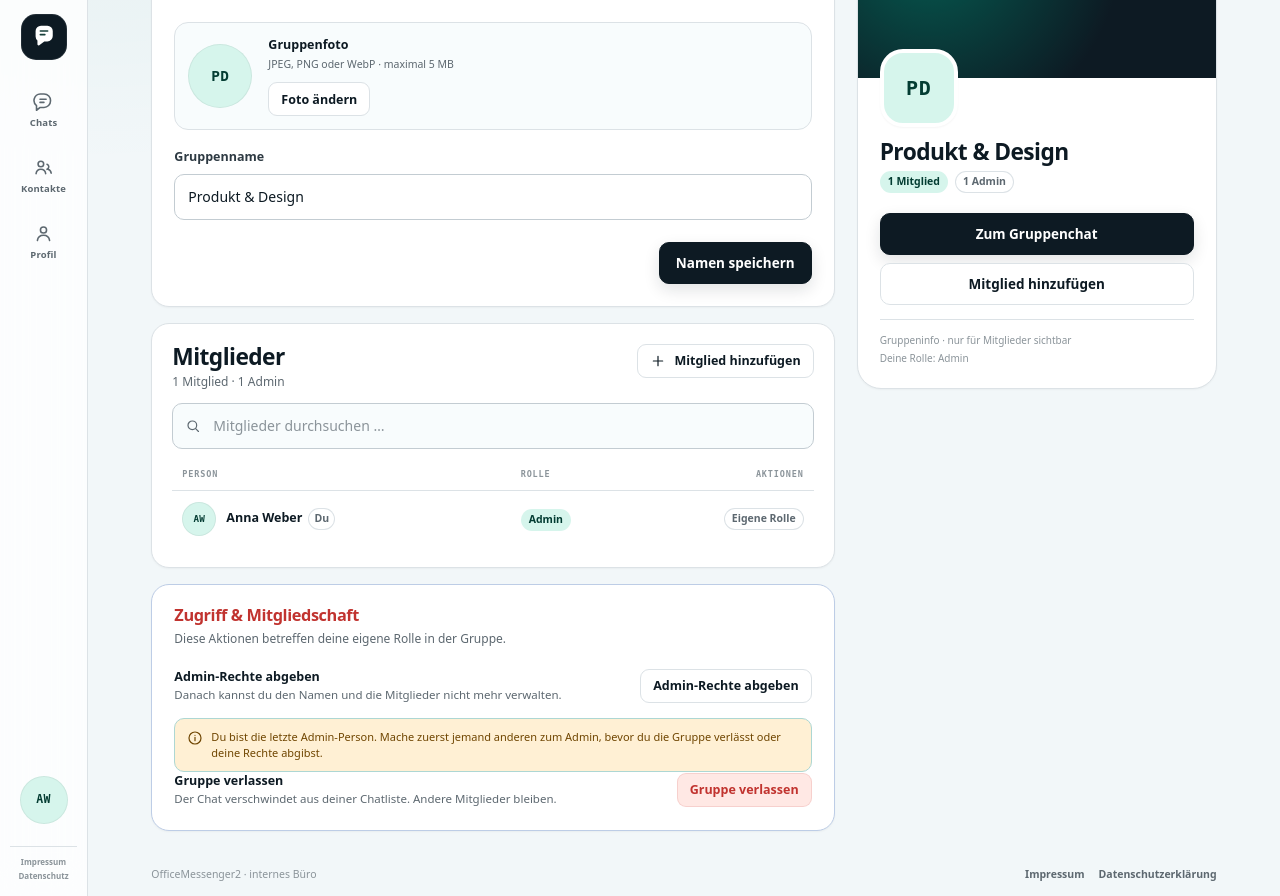
GroupSettingsPage as admin › keeps the last admin in place and shows the server message
(page scrolled)
Click the button "Admin-Rechte abgeben".
click(726, 686)  # box left=640, top=669, right=812, bottom=703
(page scrolled)
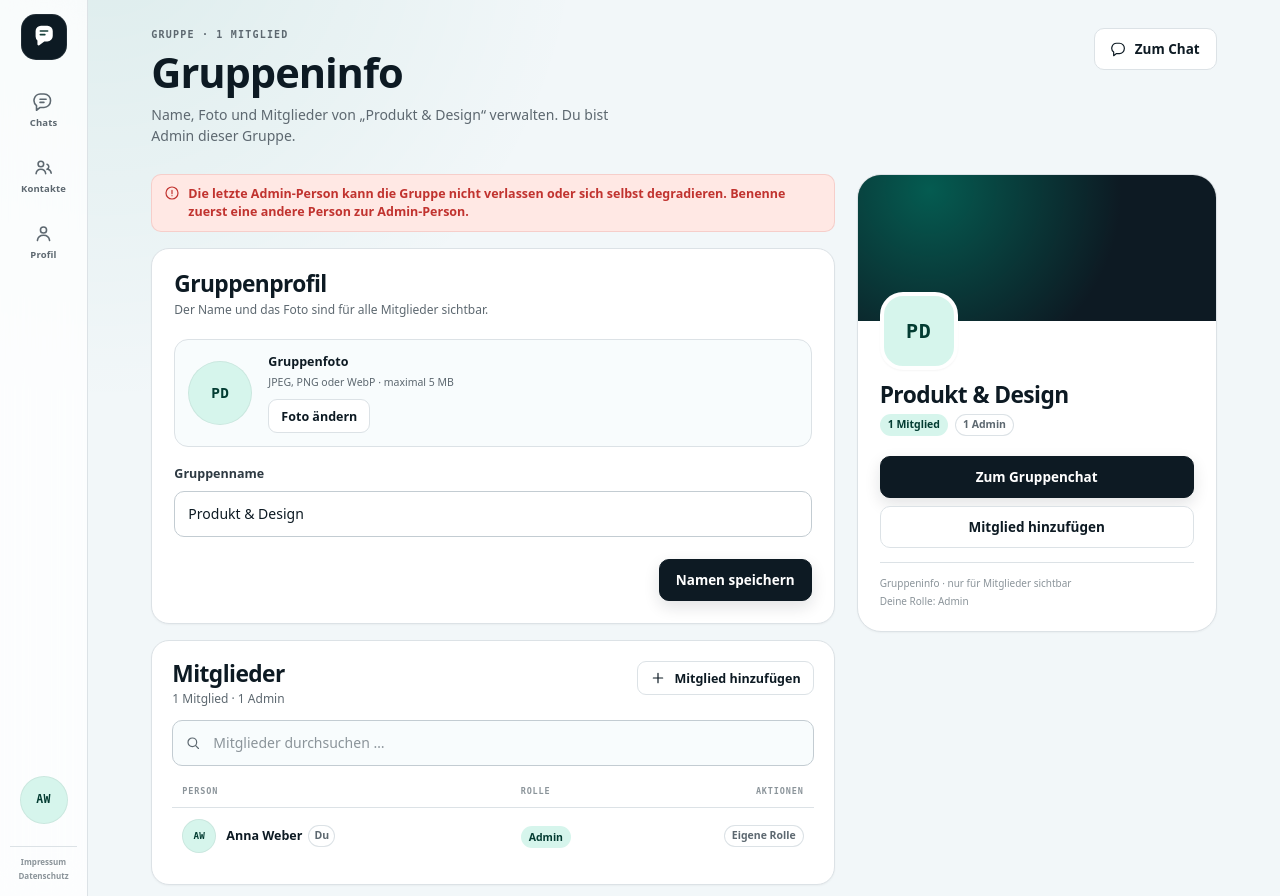
Expected: the heading "Gruppeninfo" is shown, left=151, top=44, right=403, bottom=100
Expected: the text "Die letzte Admin-Person kann die Gruppe nicht verlassen oder sich selbst degradieren. Benenne zuerst eine andere Person " is shown, left=188, top=185, right=785, bottom=220
